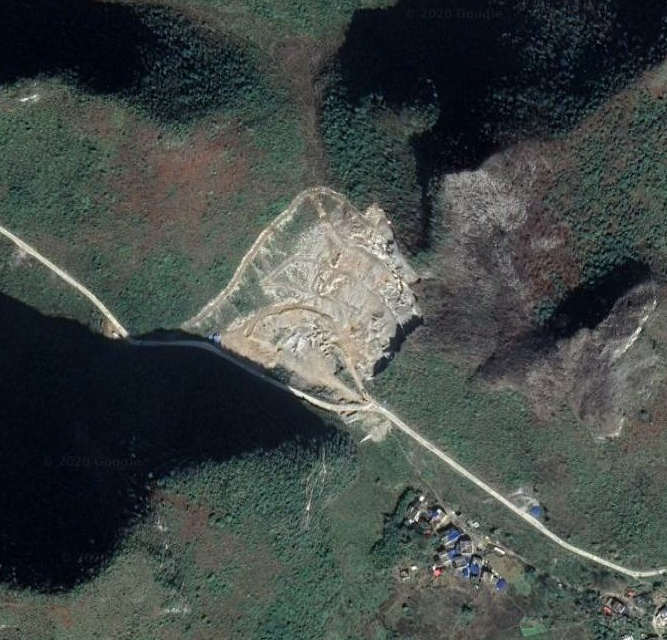slope: (484, 260, 656, 440), (362, 203, 398, 245)
